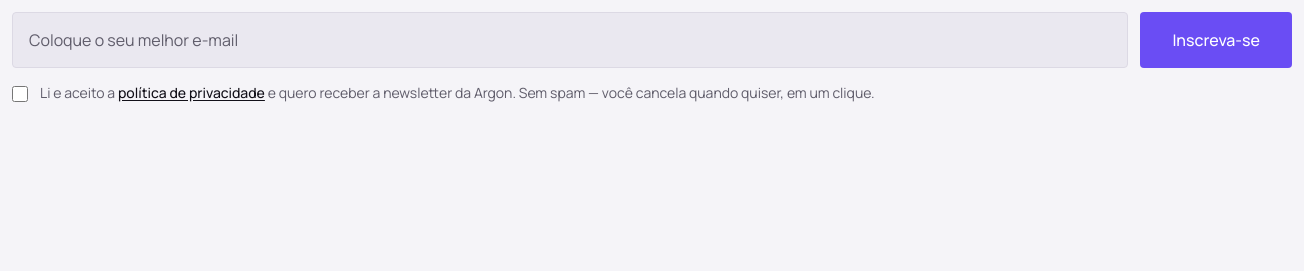
Test: NewsletterForm › shows the confirmation notice and moves focus to it on success
The image size is (1304, 271).
Type "  Ana@Example.com " into the field named "Seu e-mail" at (570,40), box x1=12 y1=12 x2=1128 y2=68
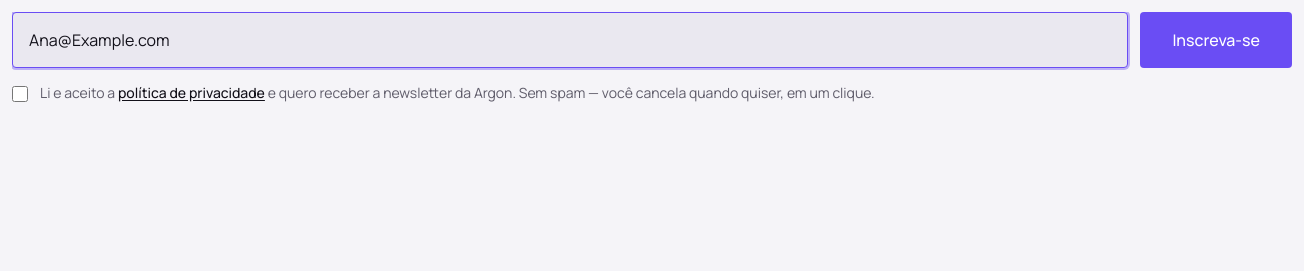
Click the checkbox at (20,94), box x1=12 y1=86 x2=28 y2=102
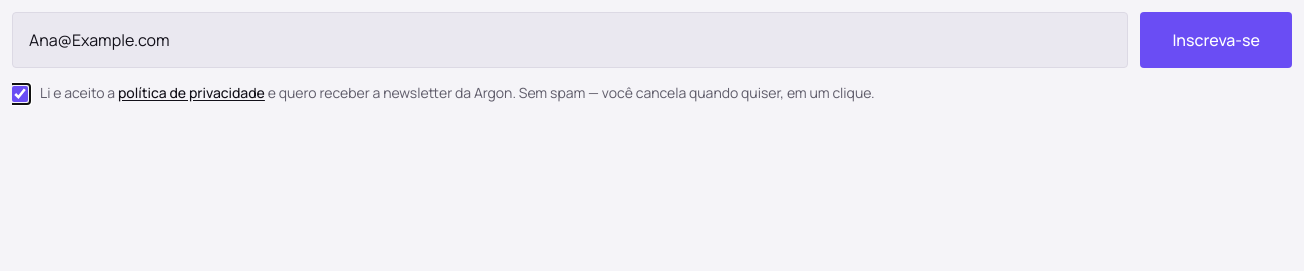
Click the button "Inscreva-se" at (1216,40), box x1=1140 y1=12 x2=1292 y2=68
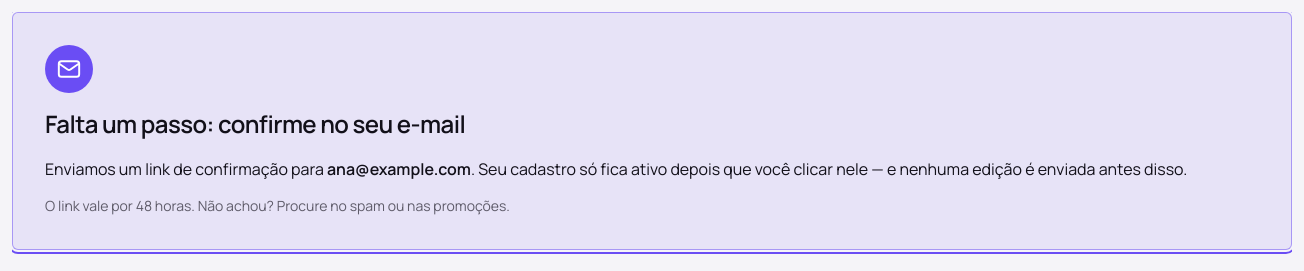
expect the message shows "Falta um passo: confirme no seu e-mail": met, box x1=45 y1=108 x2=465 y2=141
expect the message shows "ana@example.com": met, box x1=327 y1=158 x2=471 y2=180
expect the field is gone: met
